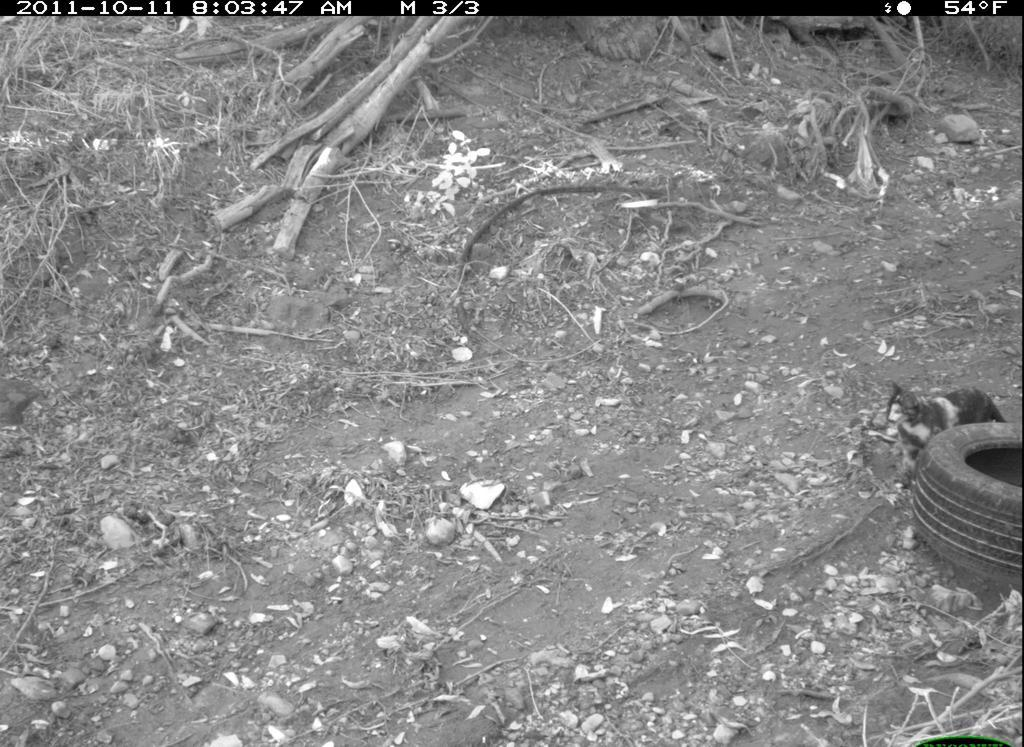cat: (821, 286, 1014, 446)
